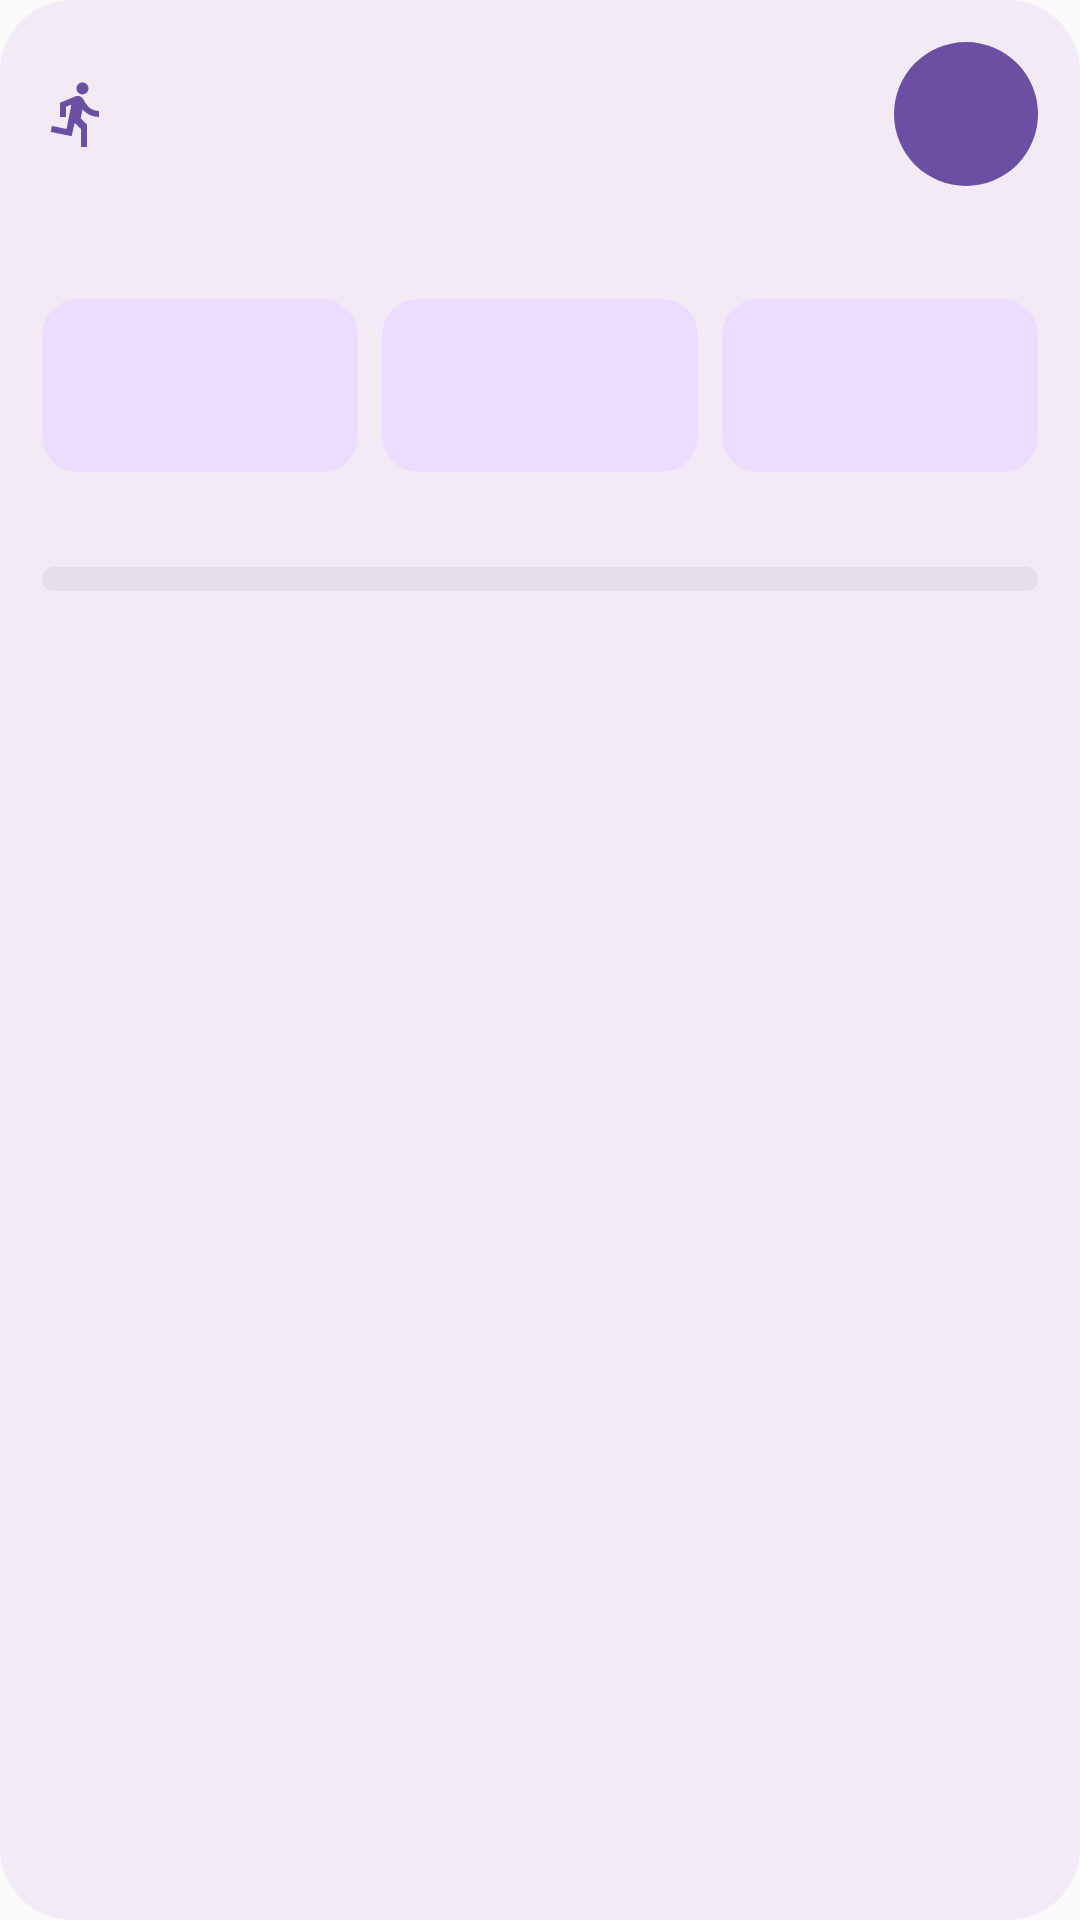

Point at icon controls on the screen. Image size 1080x1920, points as (x=x, y=y).
module sport: (x=74, y=114)
